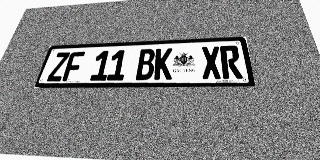1: (90, 50, 112, 81), (107, 50, 128, 81)
B: (136, 49, 155, 80)
F: (62, 52, 85, 81)
K: (154, 48, 173, 80)
R: (219, 45, 243, 79)
X: (201, 46, 222, 79)
Z: (46, 52, 70, 81)
